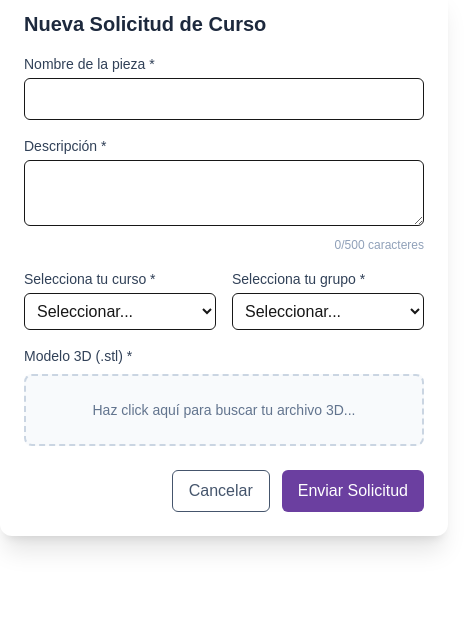
Scenario: IMP-02: Formulario de Solicitud (Estudiante) › muestra un mensaje de error cuando el insert falla
The width and height of the screenshot is (465, 634).
In the field labelled "Nombre de la pieza *": point(224, 99) [24, 78, 424, 120], type "Engranaje Proyecto"
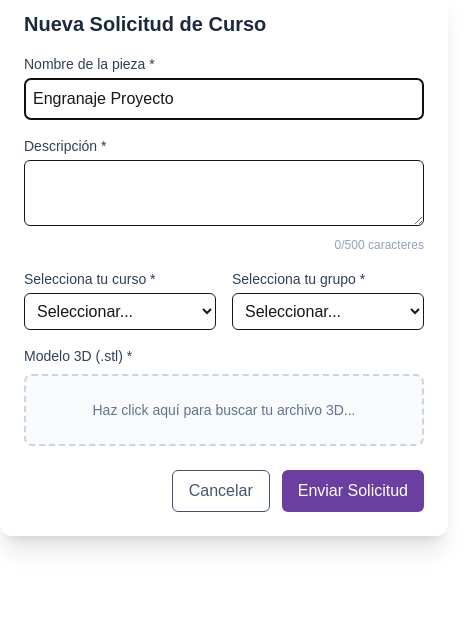
In the text box labelled "Descripción *": point(224, 193) [24, 160, 424, 226], type "Pieza para robótica"
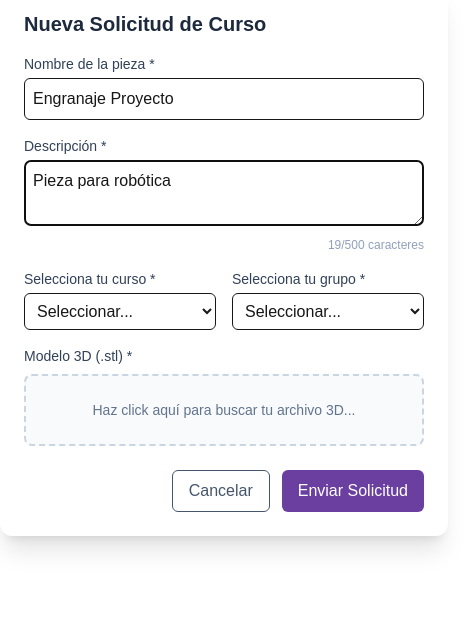
Select "Mock DB" in the dropdown labelled "Selecciona tu curso *": point(120, 312) [24, 293, 216, 330]
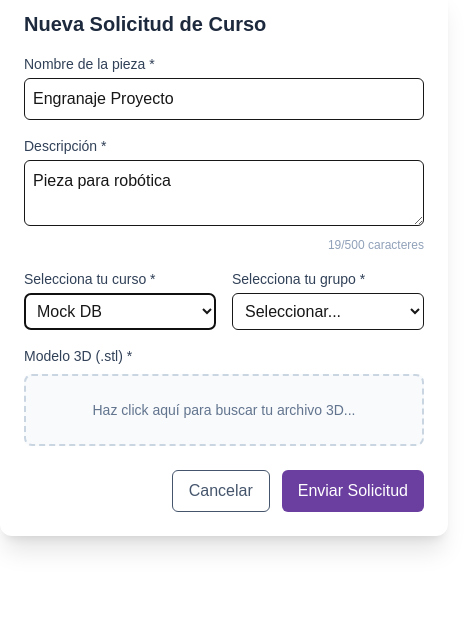
Select "Mock DB" in the dropdown labelled "Selecciona tu grupo *": point(328, 312) [232, 293, 424, 330]
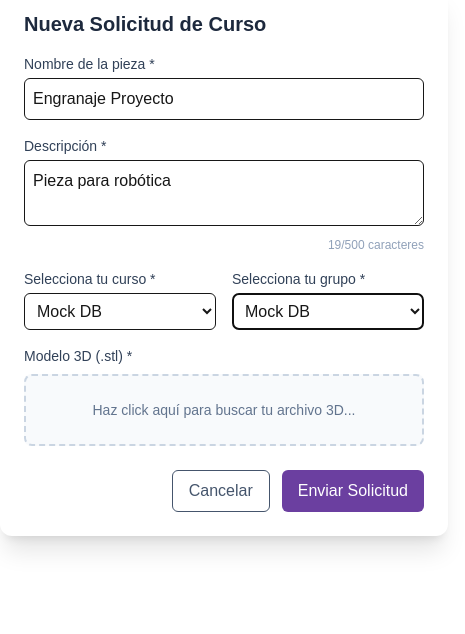
Submit the form from the button "Enviar Solicitud", box [282, 470, 424, 512]
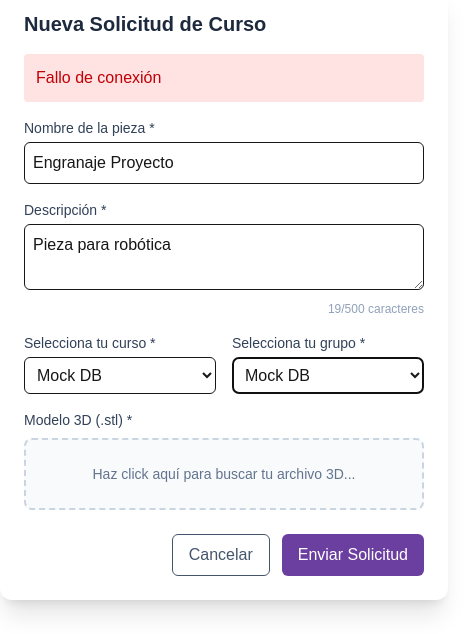
Now the text "Fallo de conexión" is shown, box [24, 54, 424, 102]
